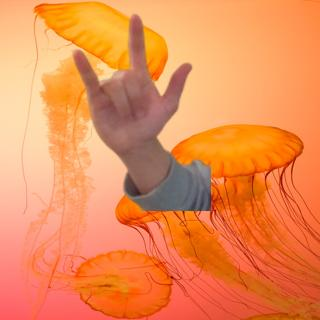ILY: (67, 10, 196, 153)
